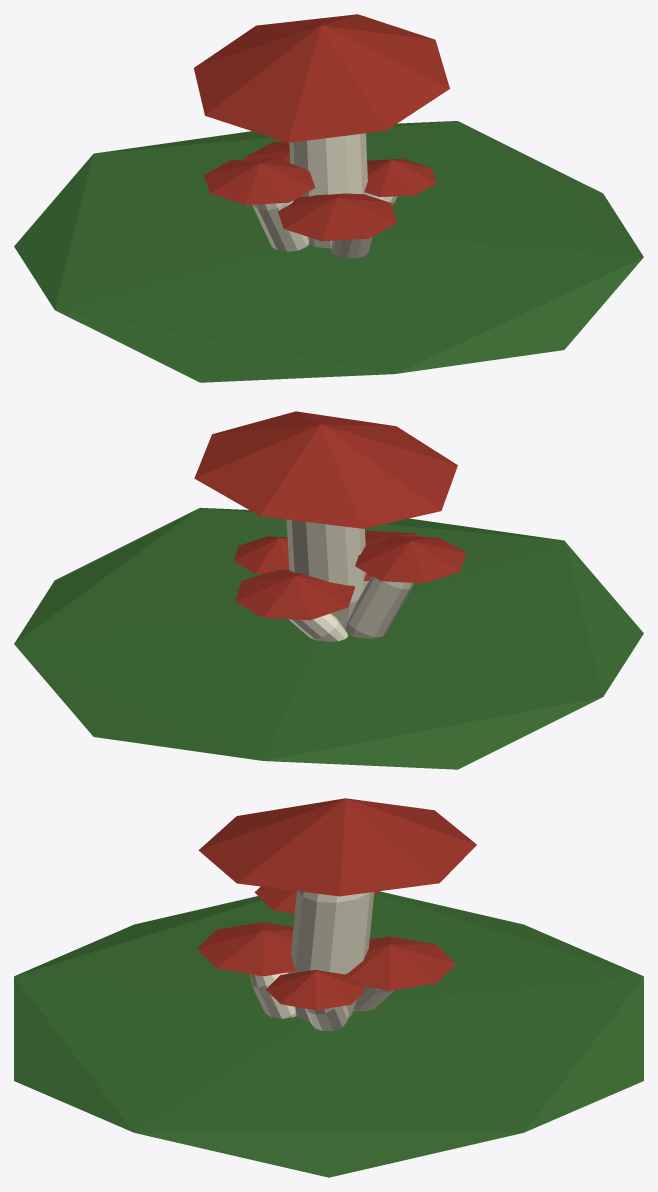
The model's file is muhomori.fbx.
The picture shows the model from 3 angles, top to bottom: view 1: azimuth 30°, elevation 25°; view 2: azimuth 150°, elevation 25°; view 3: azimuth 270°, elevation 25°; orthographic projection. The views are drawn at different scales.
Visible parts, largest first — view 1: Icosphere, Cone.004, Cylinder.004; view 2: Icosphere, Cone.004, Cylinder.004; view 3: Icosphere, Cone.004, Cylinder.004.
Part boxes in pixels (<box>): Icosphere: <box>14,121,643,382</box>; Cone.004: <box>194,14,449,241</box>; Cylinder.004: <box>252,133,397,258</box>; Icosphere: <box>14,507,643,769</box>; Cone.004: <box>194,411,466,620</box>; Cylinder.004: <box>286,519,413,641</box>; Icosphere: <box>14,891,643,1177</box>; Cone.004: <box>197,798,476,1010</box>; Cylinder.004: <box>250,891,394,1030</box>.
Size of the model in its own units: 179 by 74.7 by 170.
